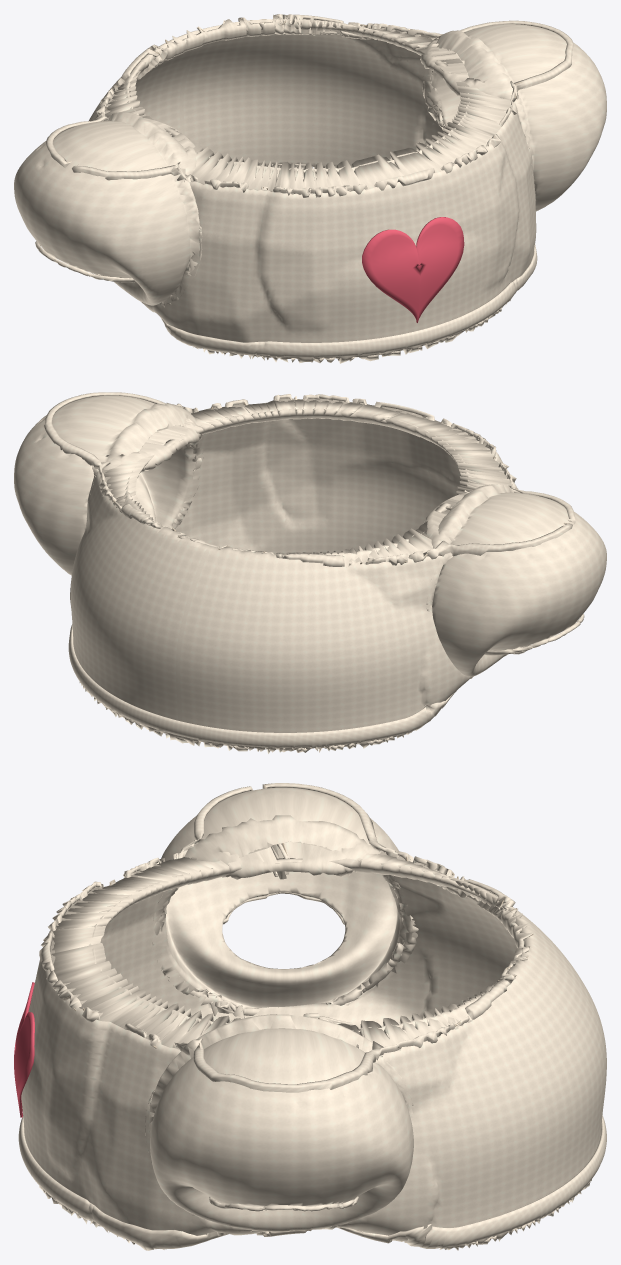
Rendered from original_surface_shirt_bear.glb.
3 views of the same model, one above another, from view 1: azimuth 30°, elevation 25°; view 2: azimuth 150°, elevation 25°; view 3: azimuth 270°, elevation 25° (orthographic). The views are drawn at different scales.
Visible parts, largest first — view 1: Manga adaptada - Camiseta original continua, Dobladillo ancho adaptado, CorazÃ³n bordado, Dobladillo ancho adaptado.001, Dobladillo ancho adaptado.002; view 2: Manga adaptada - Camiseta original continua, Dobladillo ancho adaptado, Dobladillo ancho adaptado.001, Dobladillo ancho adaptado.002; view 3: Manga adaptada - Camiseta original continua, Dobladillo ancho adaptado, Dobladillo ancho adaptado.001, CorazÃ³n bordado, Dobladillo ancho adaptado.003.
Boxes of the visible parts, left/top/right/bottom form: Manga adaptada - Camiseta original continua: left=14, top=19, right=606, bottom=363; Dobladillo ancho adaptado: left=46, top=14, right=573, bottom=197; CorazÃ³n bordado: left=362, top=217, right=464, bottom=322; Dobladillo ancho adaptado.001: left=95, top=164, right=537, bottom=358; Dobladillo ancho adaptado.002: left=35, top=241, right=135, bottom=282; Manga adaptada - Camiseta original continua: left=14, top=395, right=606, bottom=753; Dobladillo ancho adaptado: left=43, top=392, right=575, bottom=566; Dobladillo ancho adaptado.001: left=68, top=554, right=530, bottom=749; Dobladillo ancho adaptado.002: left=484, top=614, right=584, bottom=655; Manga adaptada - Camiseta original continua: left=21, top=787, right=606, bottom=1250; Dobladillo ancho adaptado: left=39, top=783, right=533, bottom=1092; Dobladillo ancho adaptado.001: left=18, top=995, right=606, bottom=1250; CorazÃ³n bordado: left=14, top=982, right=34, bottom=1117; Dobladillo ancho adaptado.003: left=209, top=1196, right=358, bottom=1211.
Bounding box in the file's own units: 0.8835 × 0.2986 × 0.6643.
Materials: 3 (1 with a texture image).
